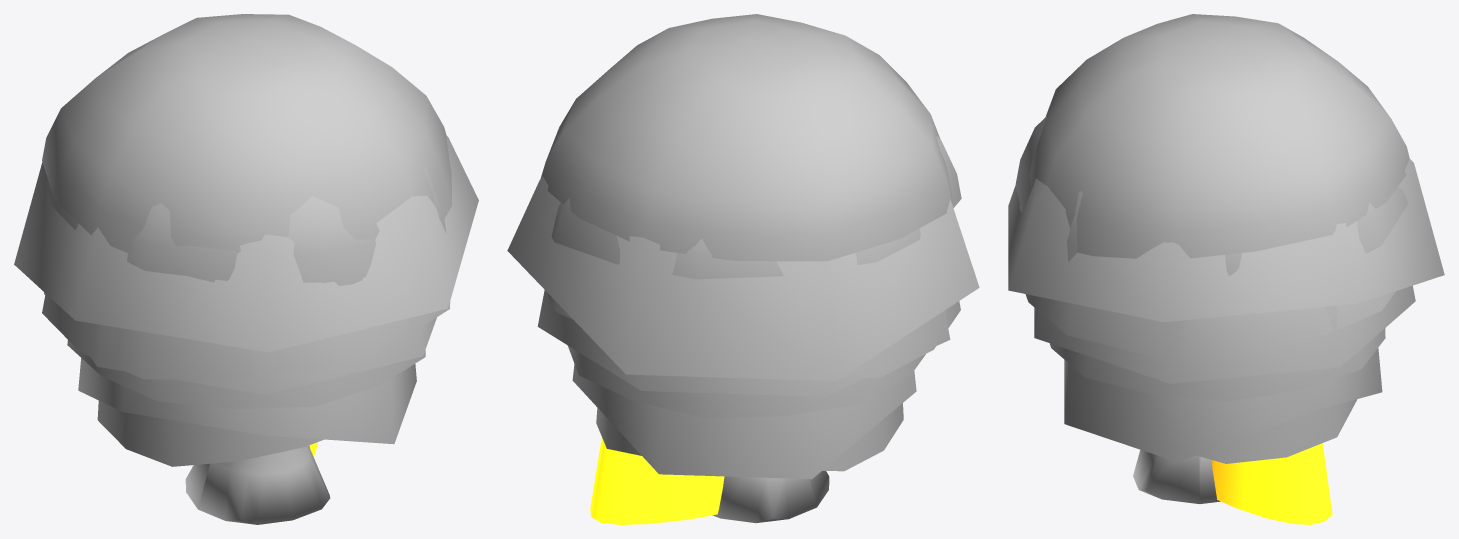
Rendered from arbre.fbx.
The picture shows the model from 3 angles, left to right: view 1: azimuth 30°, elevation 25°; view 2: azimuth 150°, elevation 25°; view 3: azimuth 270°, elevation 25°; orthographic projection. The views are drawn at different scales.
Visible parts, largest first — view 1: arbre.001, arbre; view 2: arbre.001, lampadaire, arbre; view 3: arbre.001, lampadaire, arbre.
Boxes of the visible parts, x1,y1,x2,y2 form: arbre.001: (14,14,478,466); arbre: (185,445,330,524); arbre.001: (507,14,979,479); lampadaire: (590,437,724,524); arbre: (712,471,829,523); arbre.001: (1008,14,1444,463); lampadaire: (1211,443,1332,524); arbre: (1133,450,1220,503).
Size of the model in its own units: 0.1767 by 0.1889 by 0.1723.
